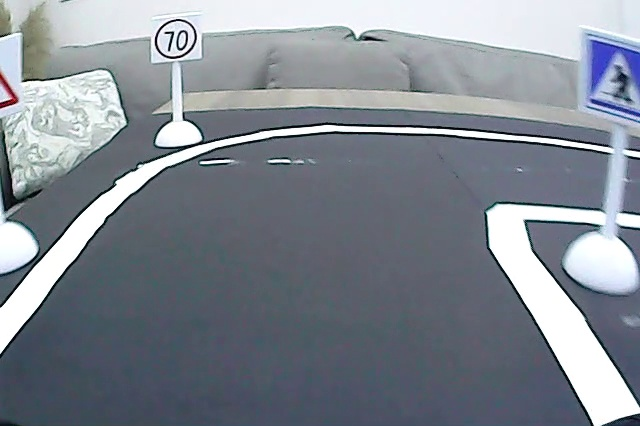pedestrian crossing: (583, 32, 640, 123)
speed limit 70: (153, 18, 199, 62)
